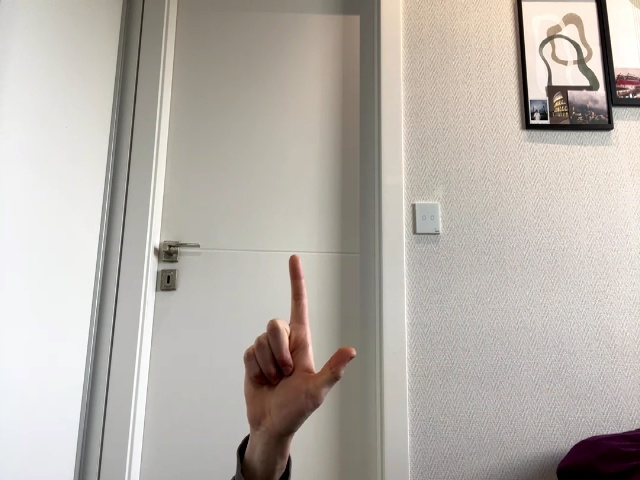L: (243, 255, 356, 461)
